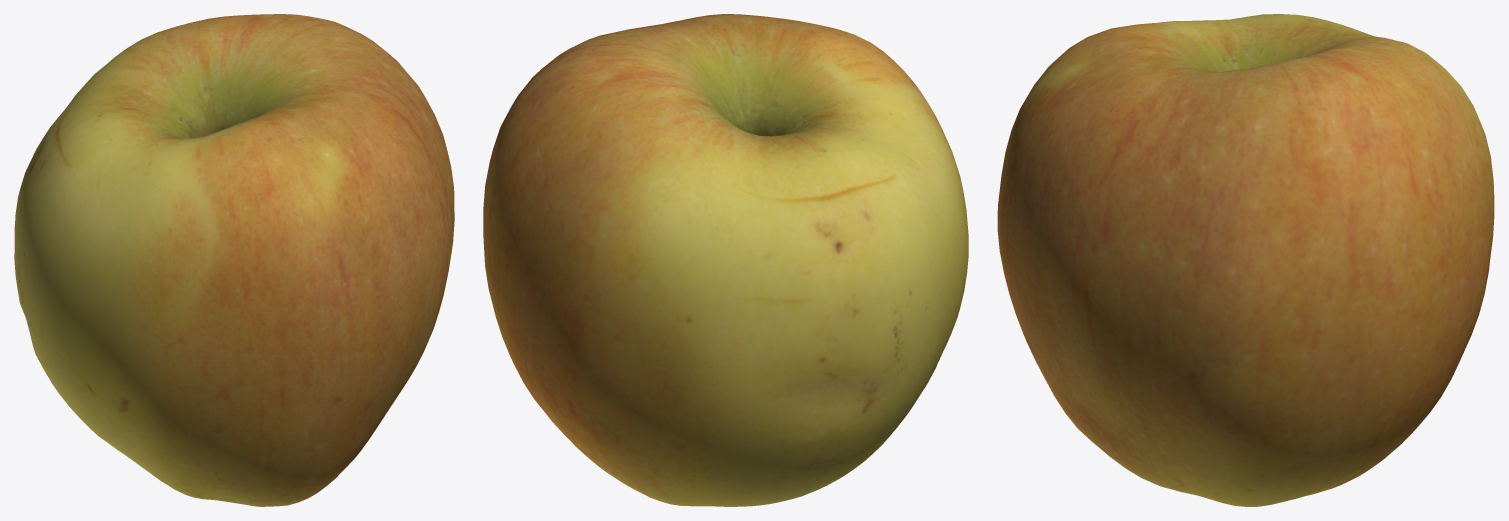
3 renders of one model, left to right at view 1: azimuth 30°, elevation 25°; view 2: azimuth 150°, elevation 25°; view 3: azimuth 270°, elevation 25°, orthographic. The views are drawn at different scales.
Visible parts, largest first — view 1: apple; view 2: apple; view 3: apple.
Part boxes in pixels (left/top/right/bottom): apple: left=14, top=14, right=454, bottom=506; apple: left=483, top=14, right=968, bottom=506; apple: left=997, top=14, right=1494, bottom=506.
Bounding box in the file's own units: 0.1606 × 0.1593 × 0.1596.
Materials: 1 (1 with a texture image).
